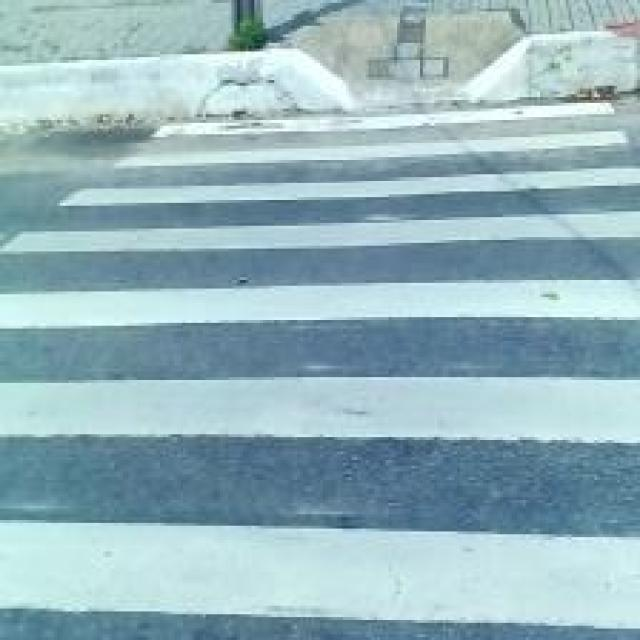crosswalk: (2, 88, 640, 640)
